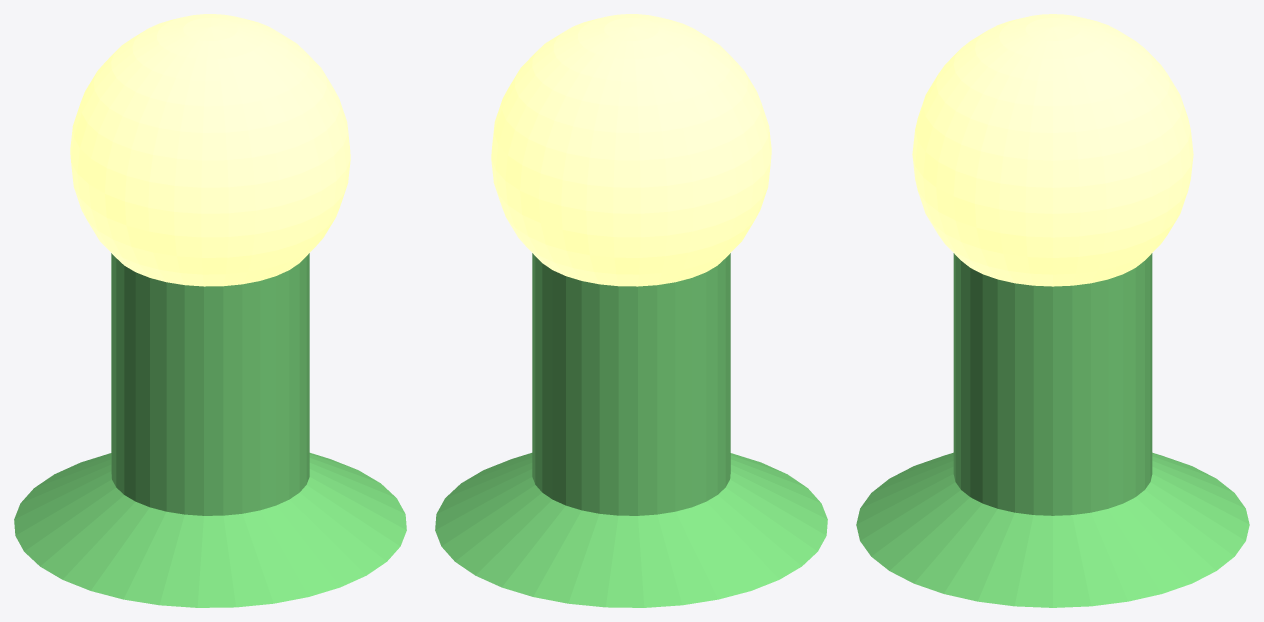
File: bulb.gltf
3 renders of one model, left to right at view 1: azimuth 30°, elevation 25°; view 2: azimuth 150°, elevation 25°; view 3: azimuth 270°, elevation 25°, orthographic.
Visible parts, largest first — view 1: Sphere.001; view 2: Sphere.001; view 3: Sphere.001.
Boxes of the visible parts, box(x1,y1,x2,y2) form: Sphere.001: box(14, 14, 406, 607); Sphere.001: box(435, 14, 827, 607); Sphere.001: box(856, 14, 1249, 607).
Size of the model in its own units: 2.8 by 3.91 by 2.8.
